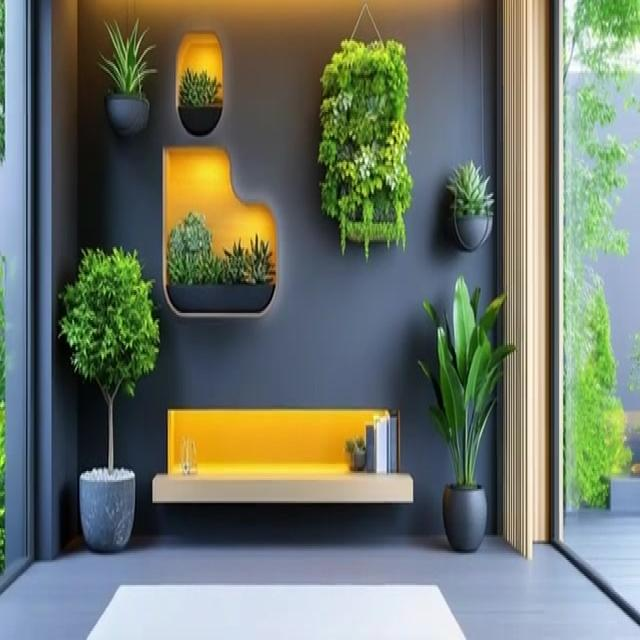obstacle: (151, 405, 414, 505)
